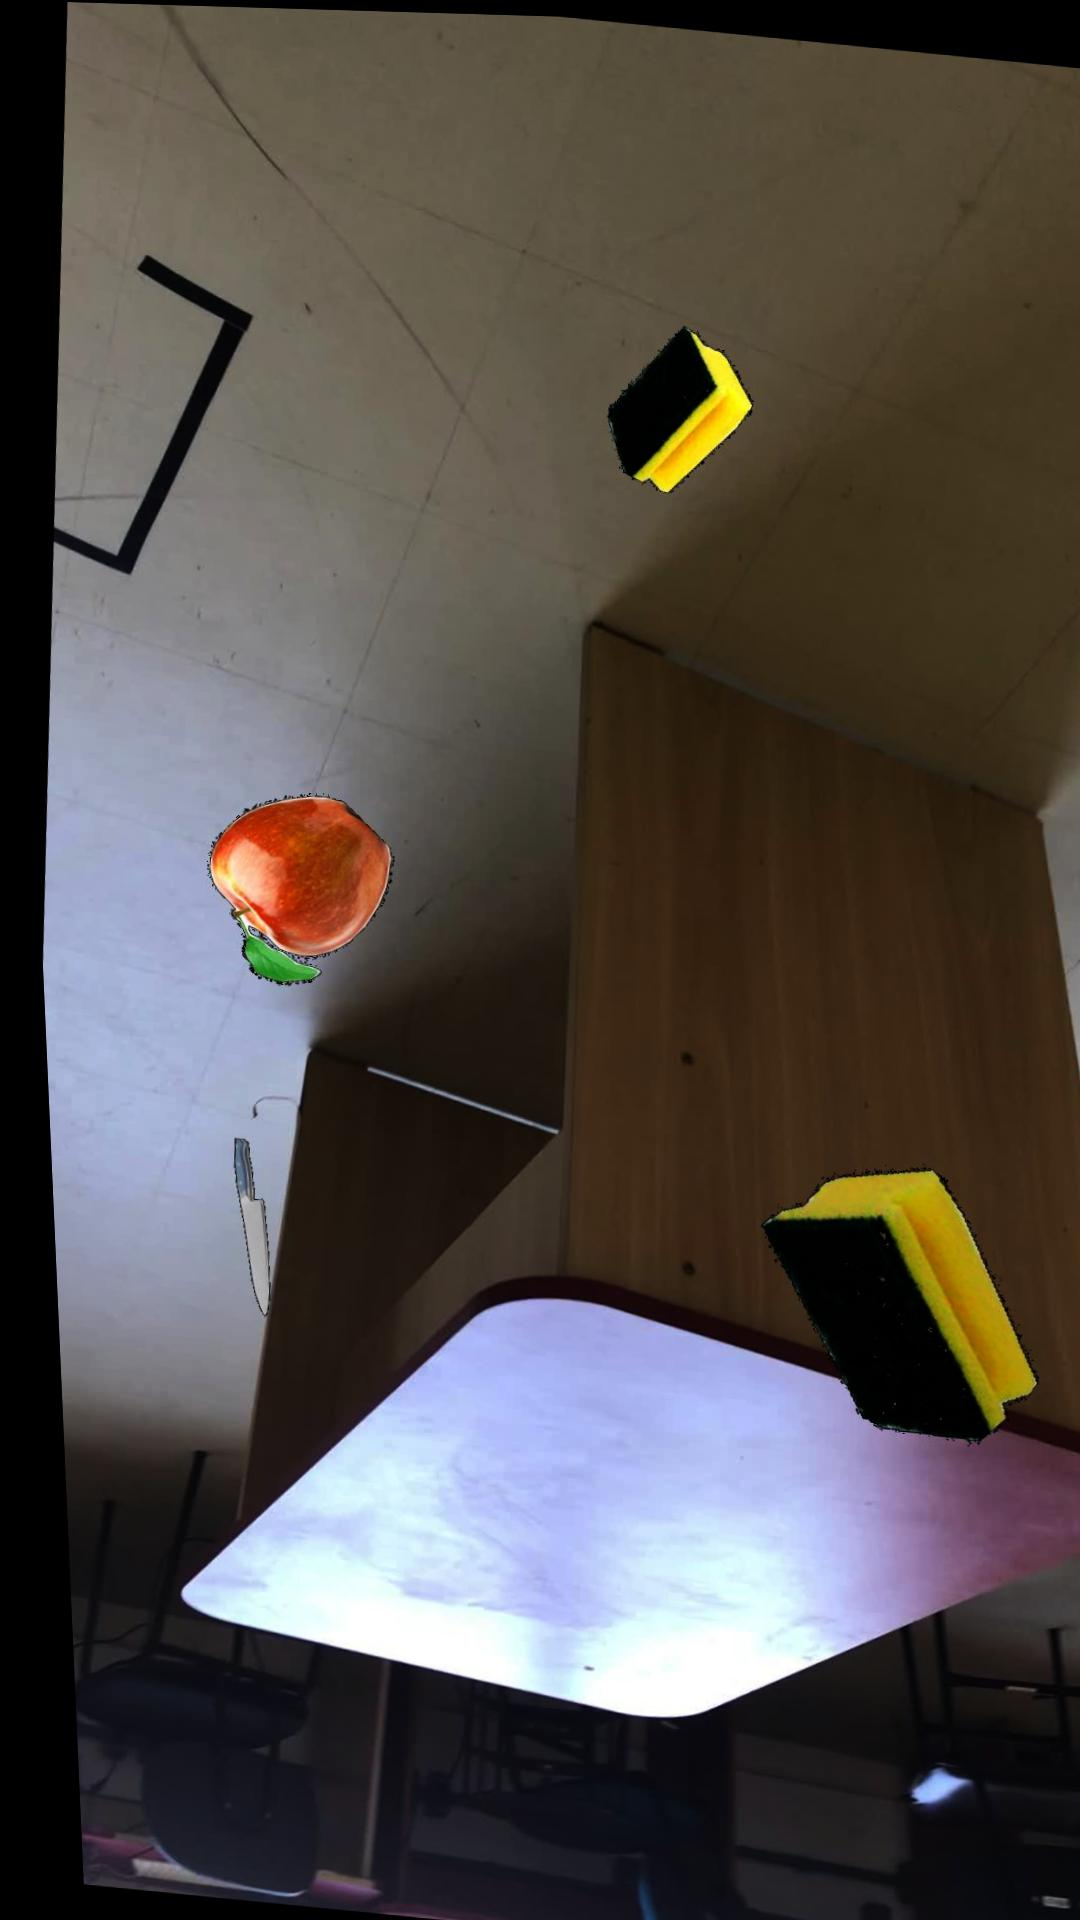apple: (199, 793, 381, 984)
knife: (220, 1138, 256, 1316)
sponge: (746, 1162, 1022, 1437), (601, 322, 746, 489)
